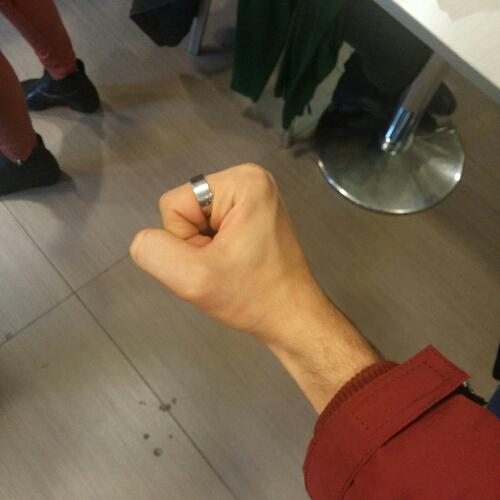rock: (122, 157, 314, 339)
